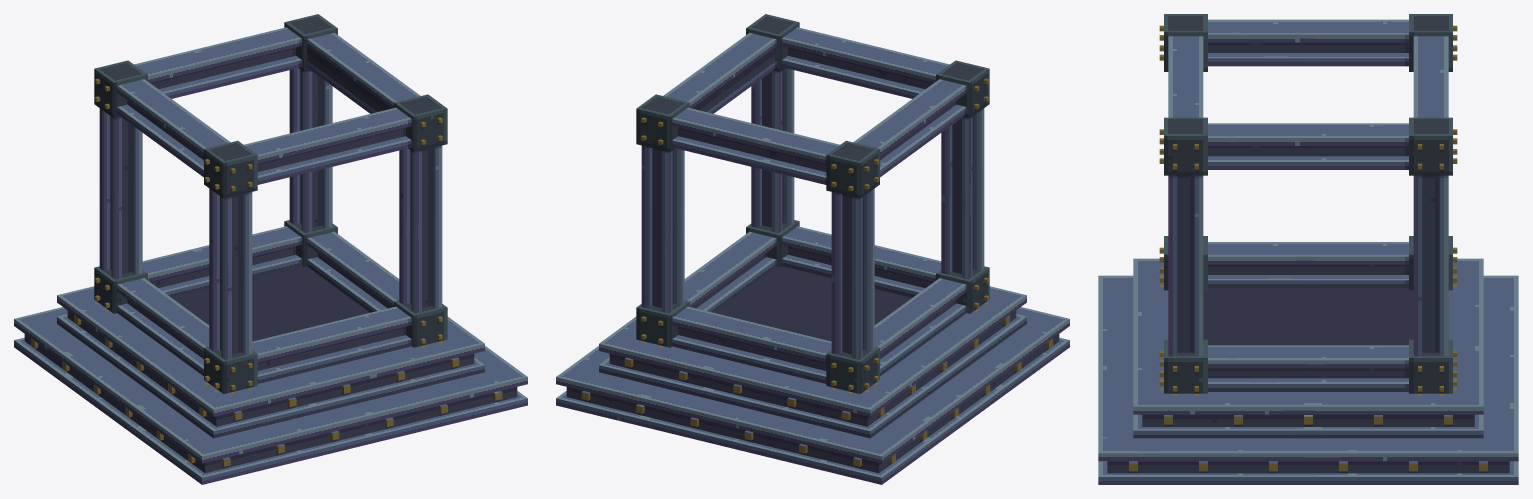
Rendered from gate_industrialao.fezao.glb.
3 renders of one model, left to right at view 1: azimuth 30°, elevation 25°; view 2: azimuth 150°, elevation 25°; view 3: azimuth 270°, elevation 25°, orthographic. The views are drawn at different scales.
Parts seen in each view (by area): view 1: GATE_INDUSTRIALAO; view 2: GATE_INDUSTRIALAO; view 3: GATE_INDUSTRIALAO.
Part boxes in pixels (x1,y1,x2,y2): GATE_INDUSTRIALAO: [14, 14, 527, 484]; GATE_INDUSTRIALAO: [556, 14, 1069, 484]; GATE_INDUSTRIALAO: [1098, 14, 1518, 484].
Bounding box in the file's own units: 6 × 5.06 × 6.
1 material, 1 textured.
